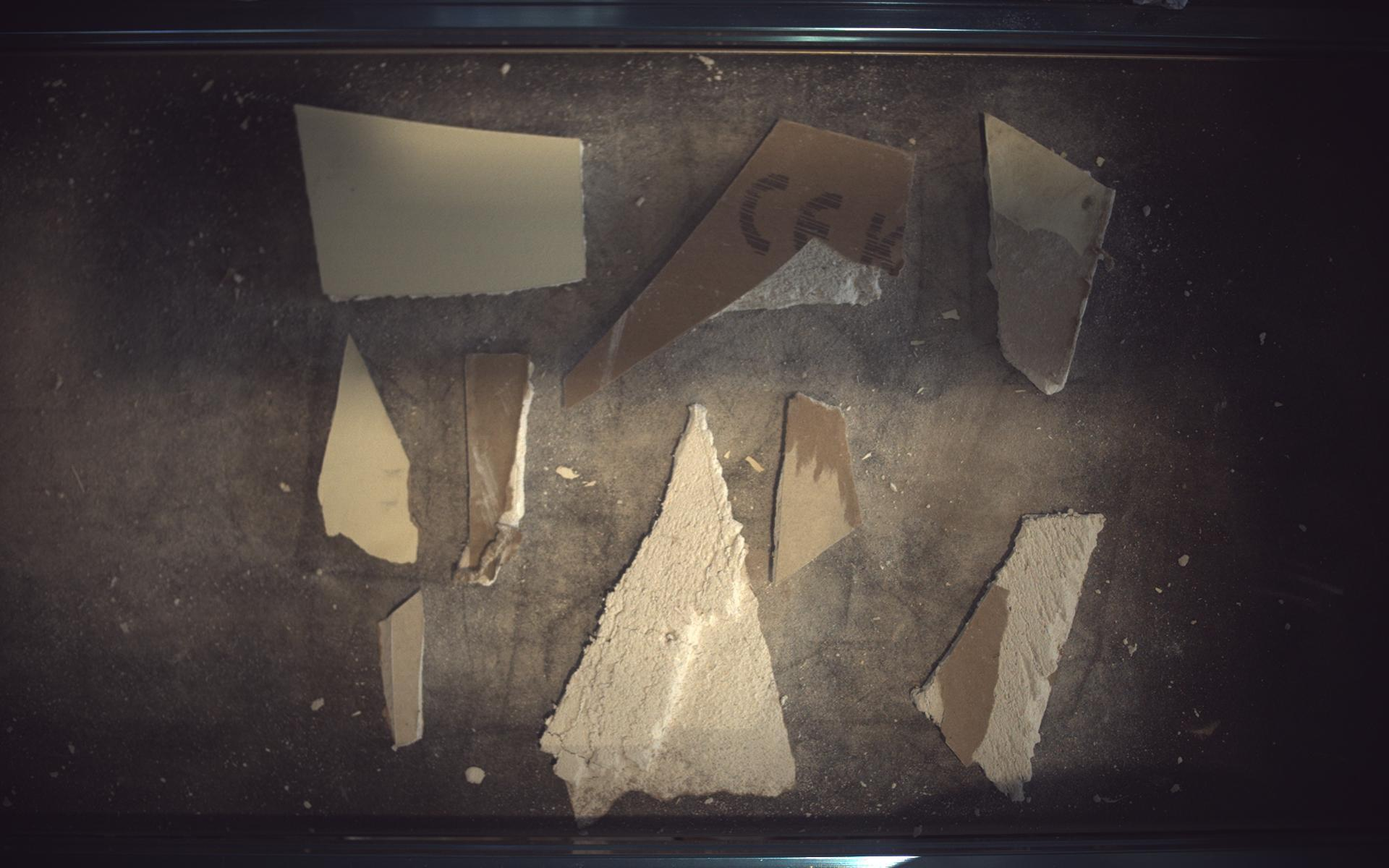gypsum_board: (540, 405, 796, 822), (564, 118, 916, 407), (295, 104, 587, 301), (914, 511, 1108, 802), (987, 113, 1118, 394), (318, 335, 418, 564), (454, 353, 533, 587), (773, 393, 864, 584), (378, 592, 425, 750)
